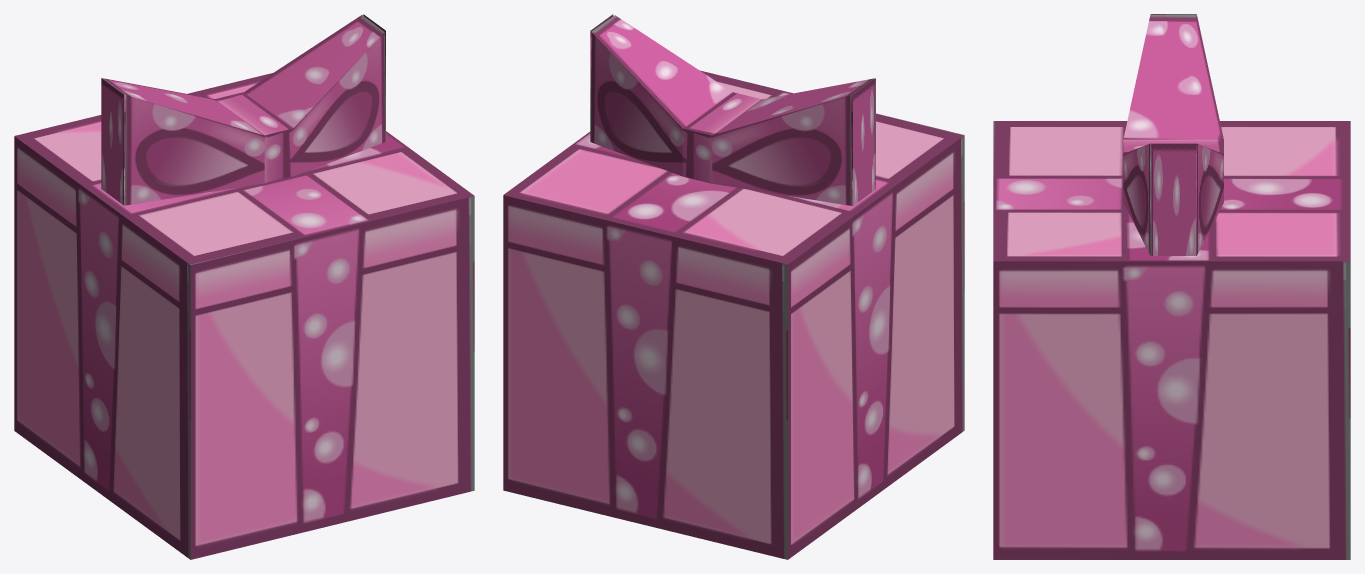
File: present_Pink.fbx
3 views of the same model, side by side, from view 1: azimuth 30°, elevation 25°; view 2: azimuth 150°, elevation 25°; view 3: azimuth 270°, elevation 25° (orthographic).
Parts seen in each view (by area): view 1: present_pink; view 2: present_pink; view 3: present_pink.
Part boxes in pixels (bbox=[...]): present_pink: bbox=[14, 14, 474, 559]; present_pink: bbox=[503, 14, 964, 559]; present_pink: bbox=[993, 14, 1350, 559].
Size of the model in its own units: 79.92 by 109 by 86.
